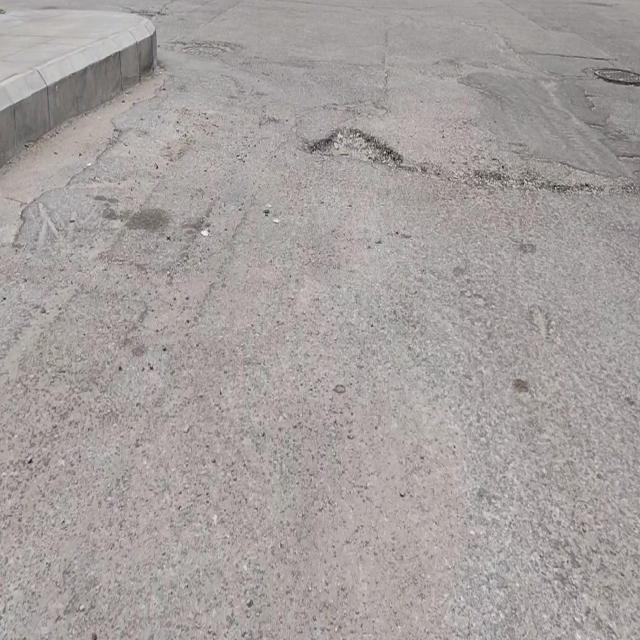Potholes: (308, 121, 401, 168)
